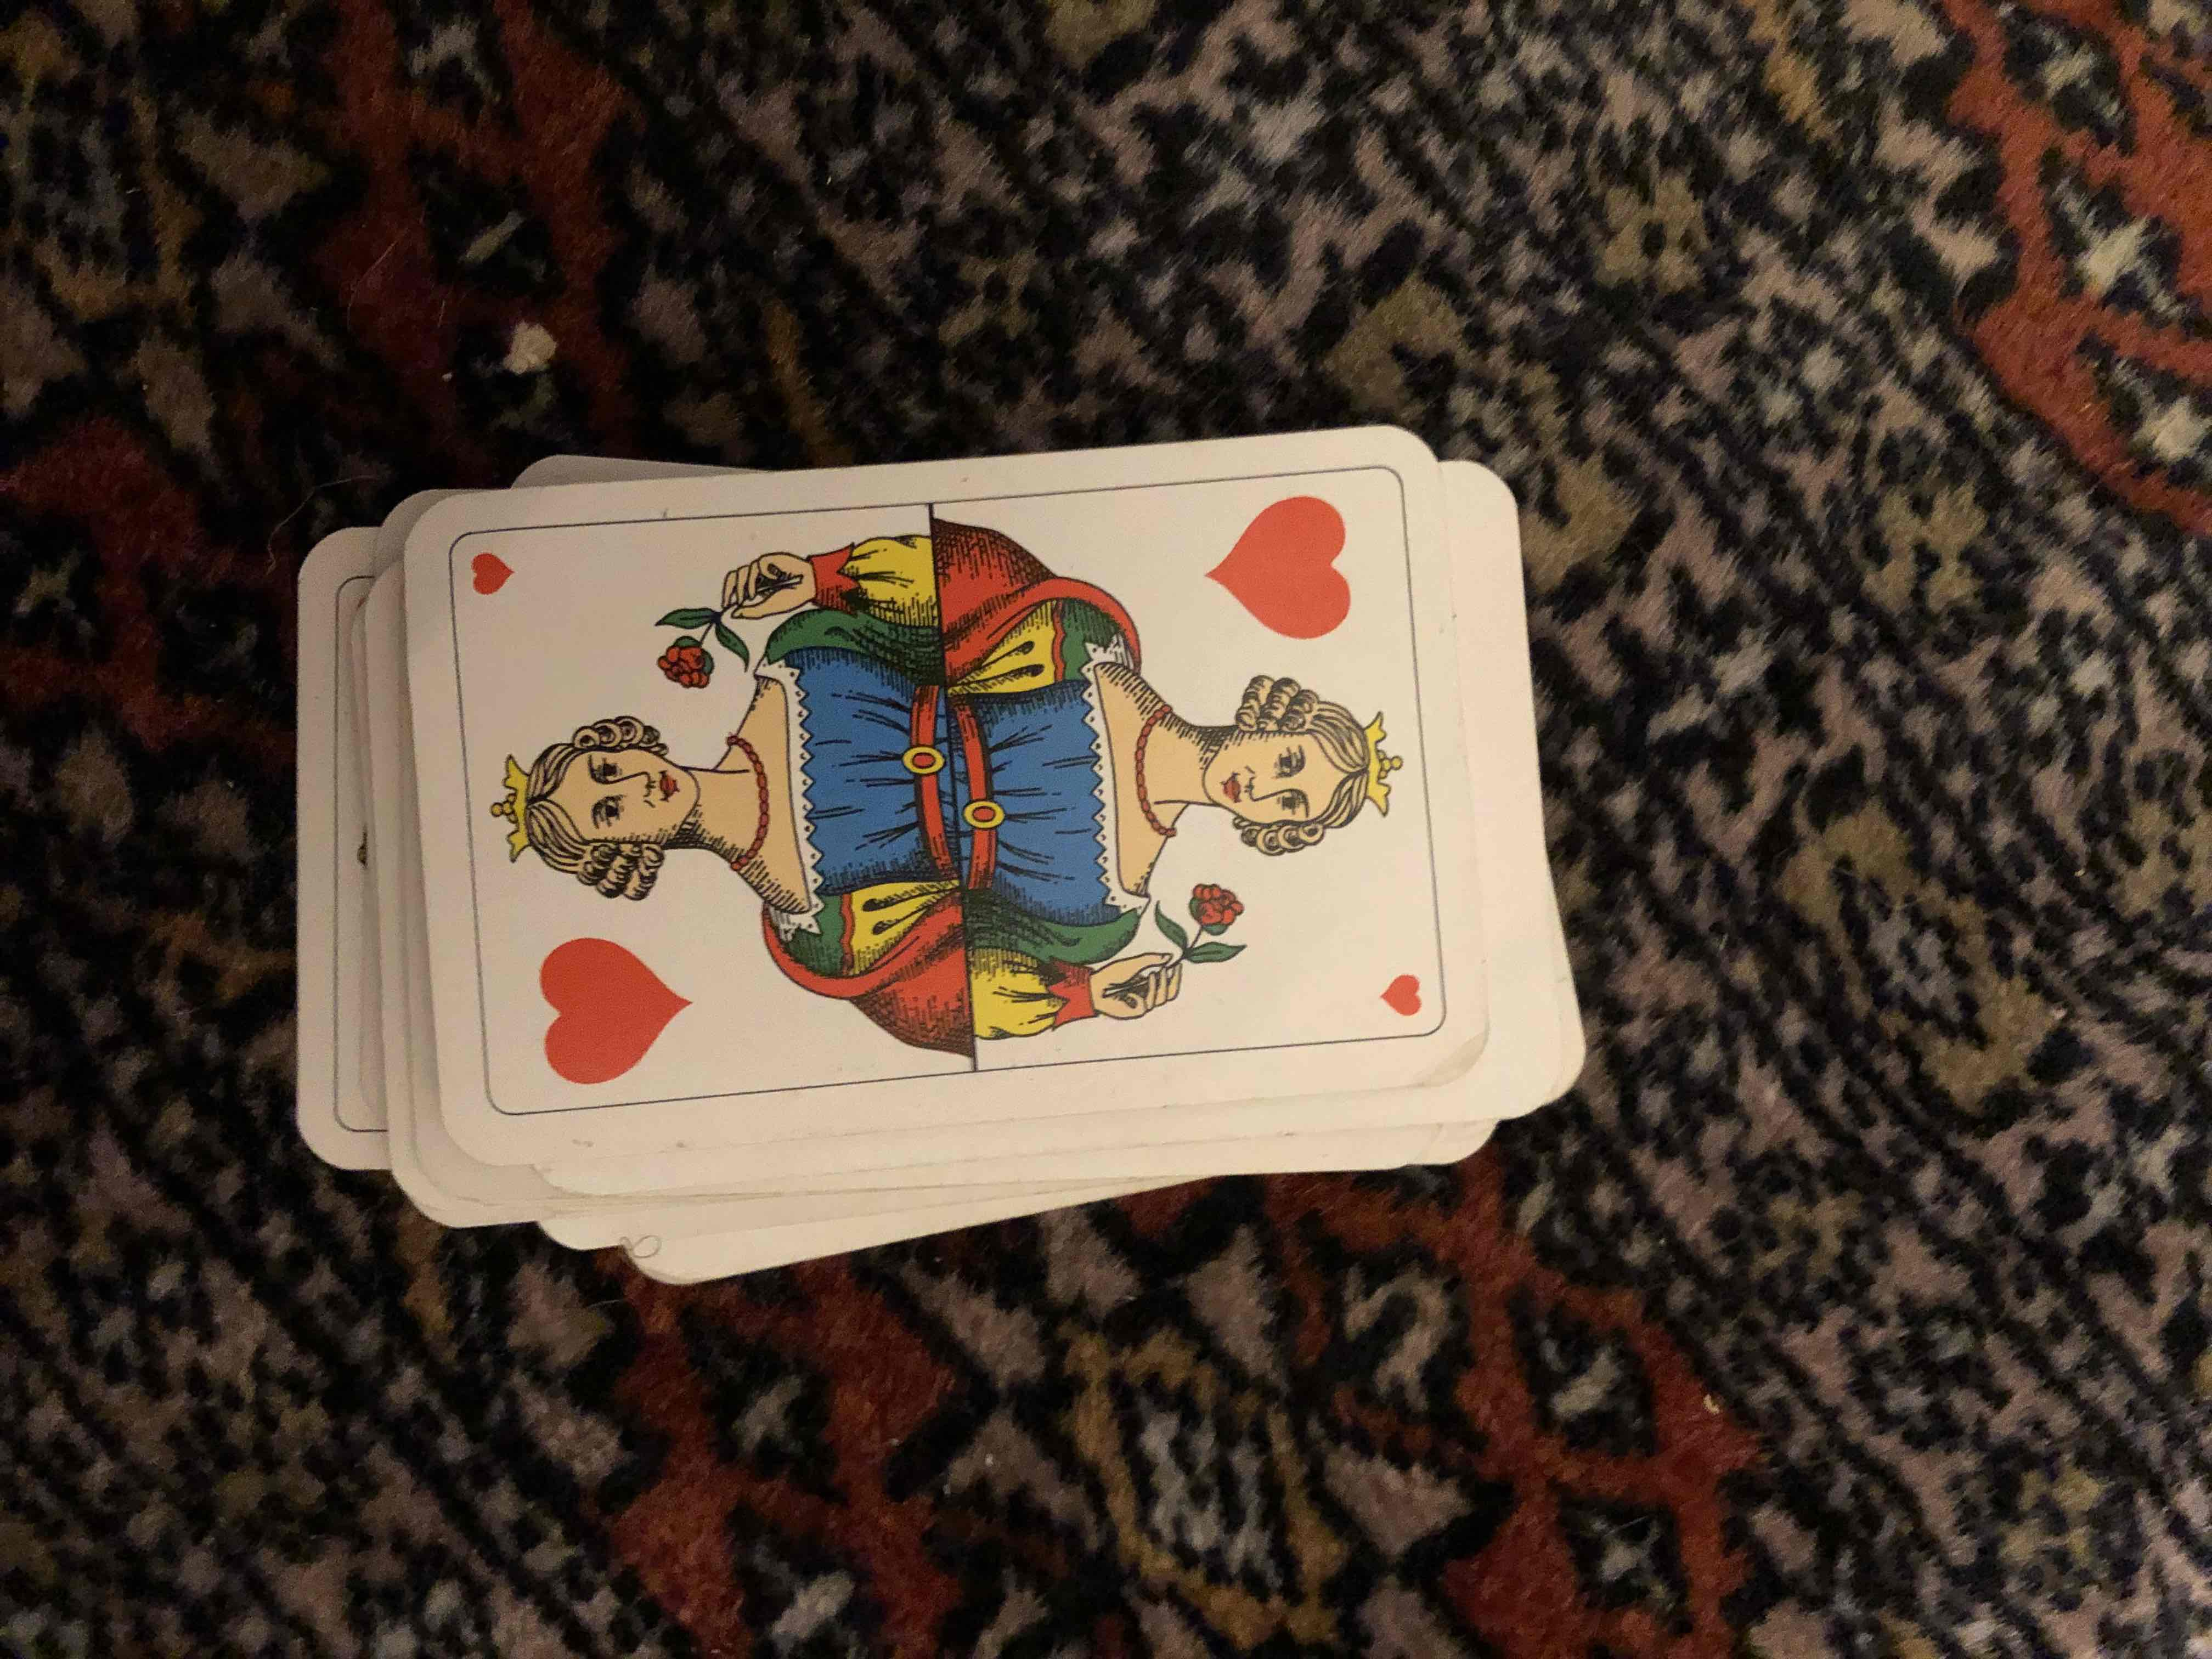heartsQueen: (394, 509, 1465, 1122)
